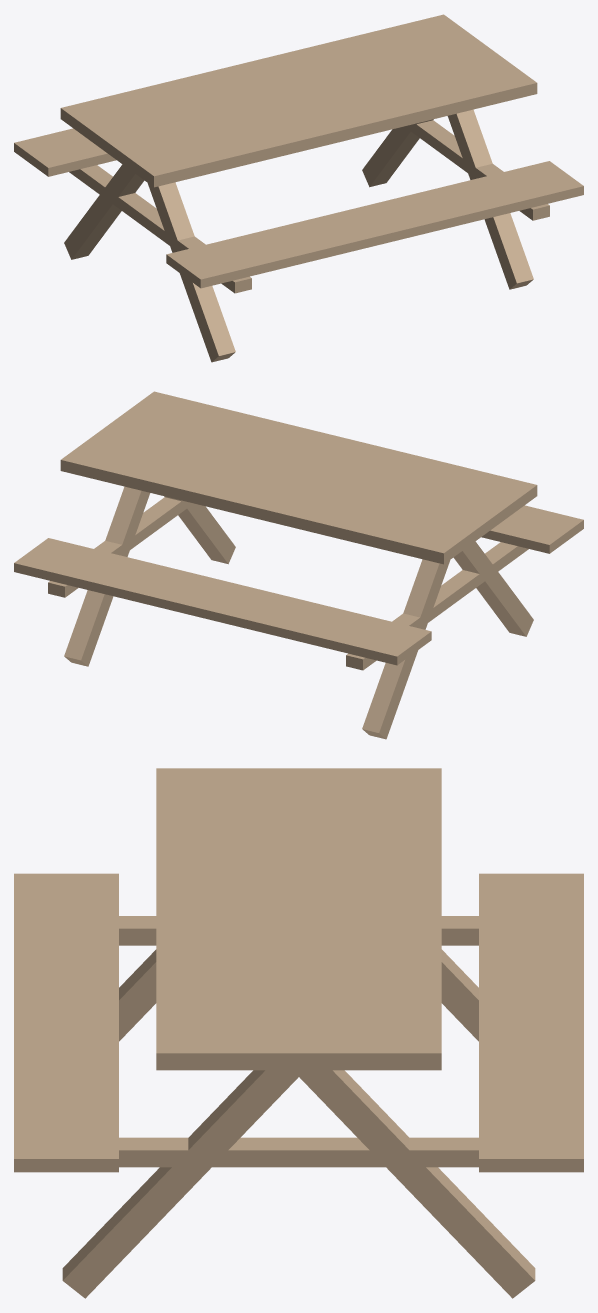
File: picnic-table.glb
The picture shows the model from 3 angles, top to bottom: view 1: azimuth 30°, elevation 25°; view 2: azimuth 150°, elevation 25°; view 3: azimuth 270°, elevation 25°; orthographic projection. The views are drawn at different scales.
Parts seen in each view (by area): view 1: picnic-table; view 2: picnic-table; view 3: picnic-table.
Boxes of the visible parts, bbox=[...] form: picnic-table: bbox=[14, 14, 583, 362]; picnic-table: bbox=[14, 391, 583, 739]; picnic-table: bbox=[14, 768, 583, 1298].
Bounding box in the file's own units: 2.26 × 1 × 1.91.
